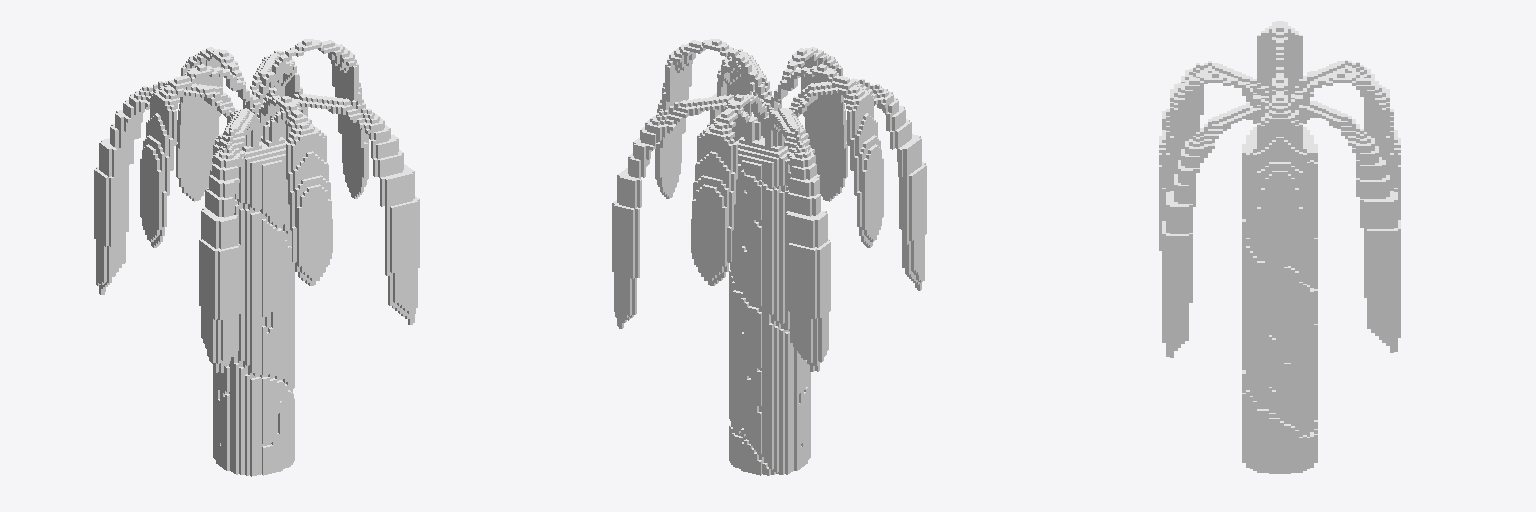
Rendered from tree6__remake.obj.
3 views of the same model, side by side, from view 1: azimuth 30°, elevation 25°; view 2: azimuth 150°, elevation 25°; view 3: azimuth 270°, elevation 25° (orthographic).
Parts seen in each view (by area): view 1: object 1; view 2: object 1; view 3: object 1.
Boxes of the visible parts, box(x1,y1,x2,y2) form: object 1: box(94, 39, 419, 476); object 1: box(612, 39, 926, 475); object 1: box(1159, 21, 1400, 473).
Size of the model in its own units: 6.5 by 11.8 by 6.4.